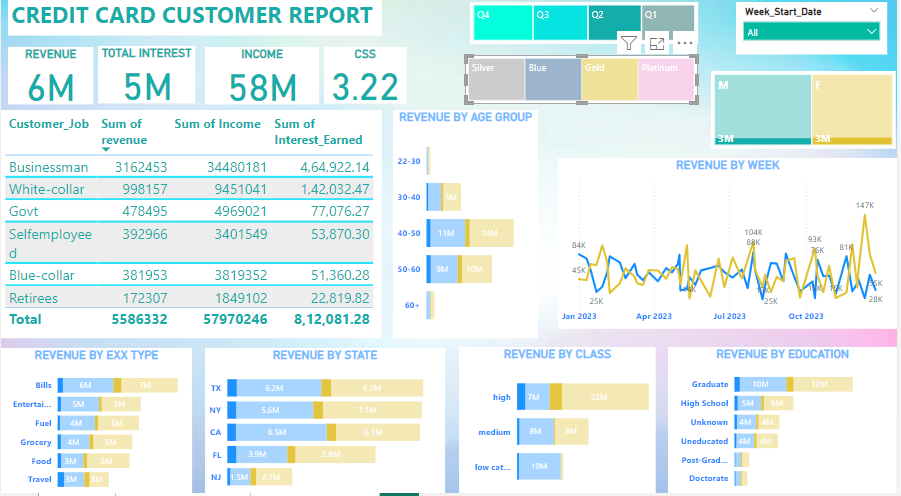

Layout of this report page (visuals, bound fields, positions):
{"tool":"powerbi","page":{"name":"customer report","canvas":[1280,720],"ordinal":2},"visuals":[{"type":"barChart","title":"REVENUE BY EXX TYPE","fields":{"Category":["ccdb cc_detail.Exp Type"],"Y":["Sum(ccdb cc_detail.revenue)"],"Series":["ccdb cust_detail.Gender"]},"box":[0,504.5,272.7,214.8],"z":0},{"type":"tableEx","fields":{"Values":["ccdb cust_detail.Customer_Job","Sum(ccdb cc_detail.revenue)","Sum(ccdb cust_detail.Income)","Sum(ccdb cc_detail.Interest_Earned)"]},"box":[0,164.4,544.3,326],"z":1000},{"type":"card","title":"REVENUE","fields":{"Values":["Sum(ccdb cc_detail.revenue)"]},"box":[9.9,73.7,121.9,82.2],"z":2000},{"type":"card","title":"TOTAL INTEREST","fields":{"Values":["Sum(ccdb cc_detail.Total_Trans_Amt)"]},"box":[138.9,72.3,138.9,82.2],"z":3000},{"type":"card","title":"INCOME","fields":{"Values":["Sum(ccdb cust_detail.Income)"]},"box":[292,73.7,163,82.2],"z":4000},{"type":"card","title":"CSS","fields":{"Values":["Avg(ccdb cust_detail.Cust_Satisfaction_Score)"]},"box":[462,73.7,117.6,80.8],"z":5000},{"type":"slicer","fields":{"Values":["ccdb cc_detail.Week_Start_Date"]},"box":[1049.9,10.2,216.5,75],"z":6000},{"type":"treemap","fields":{"Group":["ccdb cc_detail.Qtr"],"Values":["Avg(ccdb cust_detail.ï»¿Client_Num)"]},"box":[670.4,9.9,326,59.5],"z":7000},{"type":"treemap","fields":{"Group":["ccdb cc_detail.Card_Category"],"Values":["Avg(ccdb cust_detail.ï»¿Client_Num)"]},"box":[663,85.2,332.4,69.9],"z":8000},{"type":"textbox","box":[9.9,0,534.3,58.1],"z":9000},{"type":"lineChart","title":"REVENUE BY WEEK","fields":{"Y":["Sum(ccdb cc_detail.revenue)"],"Series":["ccdb cust_detail.Gender"],"Category":["ccdb cc_detail.Week_Start_Date"]},"box":[795.1,232.4,484.7,243.8],"z":10000},{"type":"treemap","fields":{"Group":["ccdb cust_detail.Gender"],"Values":["Sum(ccdb cc_detail.revenue)"]},"box":[1014.1,109.1,264.2,110.8],"z":11000},{"type":"barChart","title":"REVENUE BY CLASS","fields":{"Y":["Sum(ccdb cc_detail.revenue)"],"Category":["ccdb cust_detail.income group"],"Series":["ccdb cust_detail.Gender"]},"box":[654.5,502.8,281.2,216.5],"z":12000},{"type":"barChart","title":"REVENUE BY AGE GROUP","fields":{"Category":["ccdb cust_detail.age group"],"Y":["Sum(ccdb cc_detail.revenue)"],"Series":["ccdb cust_detail.Gender"]},"box":[559.8,164.4,206.9,326],"z":13000},{"type":"barChart","title":"REVENUE BY EDUCATION","fields":{"Category":["ccdb cust_detail.Education_Level"],"Y":["Sum(ccdb cc_detail.revenue)"],"Series":["ccdb cust_detail.Gender"]},"box":[952.8,502.8,327.2,214.8],"z":14000},{"type":"barChart","title":"REVENUE BY STATE","fields":{"Category":["ccdb cust_detail.state_cd"],"Y":["Sum(ccdb cc_detail.revenue)"],"Series":["ccdb cust_detail.Gender"]},"box":[291.5,504.5,342.6,214.8],"z":15000}]}

Visuals, with their boxes in screenshot pixels (x1, y1, x2, y2), scaled from the page's 1280x720 canvas onto the 901x496 screenshot:
"REVENUE BY EXX TYPE" barChart: {"left": 0, "top": 348, "right": 192, "bottom": 495}
tableEx - ccdb cust_detail.Customer_Job x Sum(ccdb cc_detail.revenue): {"left": 0, "top": 113, "right": 383, "bottom": 338}
"REVENUE" card: {"left": 7, "top": 51, "right": 93, "bottom": 107}
"TOTAL INTEREST" card: {"left": 98, "top": 50, "right": 196, "bottom": 106}
"INCOME" card: {"left": 206, "top": 51, "right": 320, "bottom": 107}
"CSS" card: {"left": 325, "top": 51, "right": 408, "bottom": 106}
slicer - ccdb cc_detail.Week_Start_Date: {"left": 739, "top": 7, "right": 891, "bottom": 59}
treemap - ccdb cc_detail.Qtr x Avg(ccdb cust_detail.ï»¿Client_Num): {"left": 472, "top": 7, "right": 701, "bottom": 48}
treemap - ccdb cc_detail.Card_Category x Avg(ccdb cust_detail.ï»¿Client_Num): {"left": 467, "top": 59, "right": 701, "bottom": 107}
textbox: {"left": 7, "top": 0, "right": 383, "bottom": 40}
"REVENUE BY WEEK" lineChart: {"left": 560, "top": 160, "right": 900, "bottom": 328}
treemap - ccdb cust_detail.Gender x Sum(ccdb cc_detail.revenue): {"left": 714, "top": 75, "right": 900, "bottom": 151}
"REVENUE BY CLASS" barChart: {"left": 461, "top": 346, "right": 659, "bottom": 495}
"REVENUE BY AGE GROUP" barChart: {"left": 394, "top": 113, "right": 540, "bottom": 338}
"REVENUE BY EDUCATION" barChart: {"left": 671, "top": 346, "right": 900, "bottom": 494}
"REVENUE BY STATE" barChart: {"left": 205, "top": 348, "right": 446, "bottom": 495}
